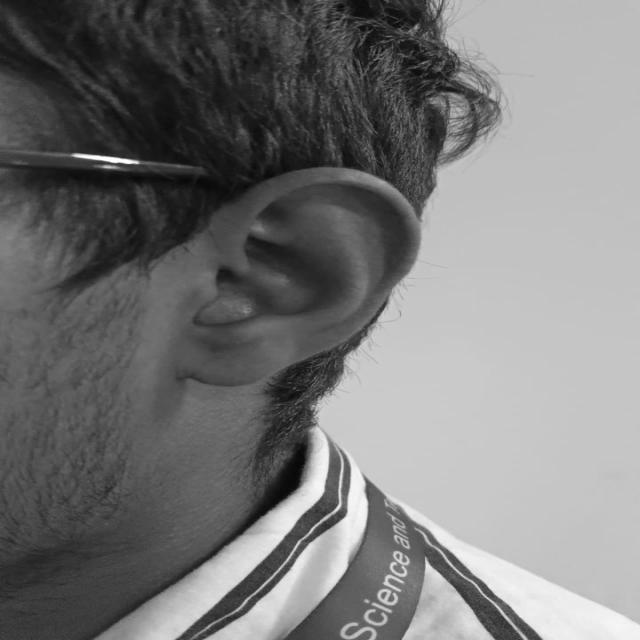ear: (180, 168, 420, 384)
